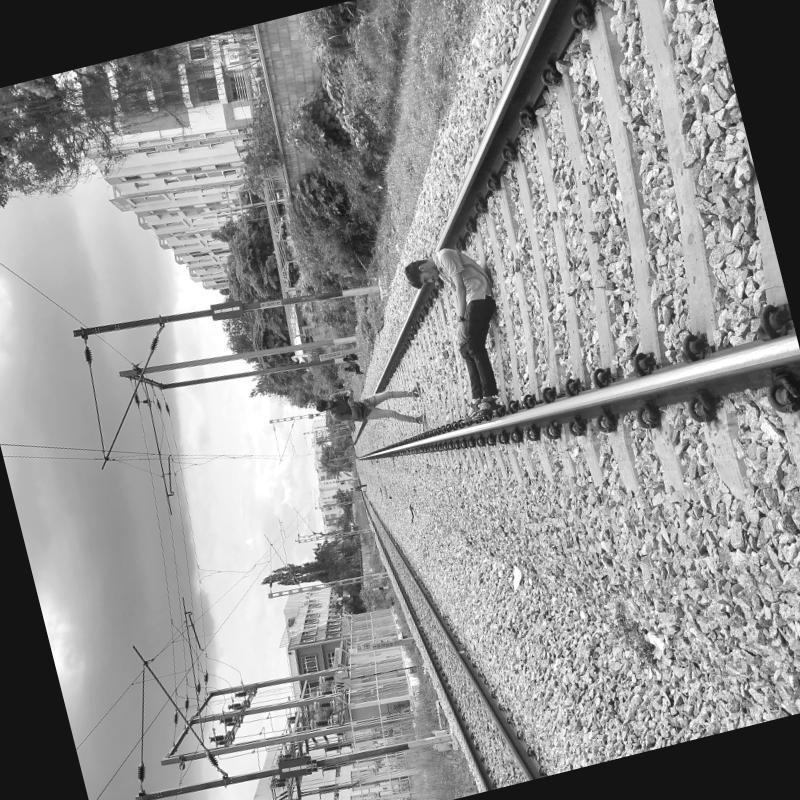sleeping: (392, 208, 538, 442)
